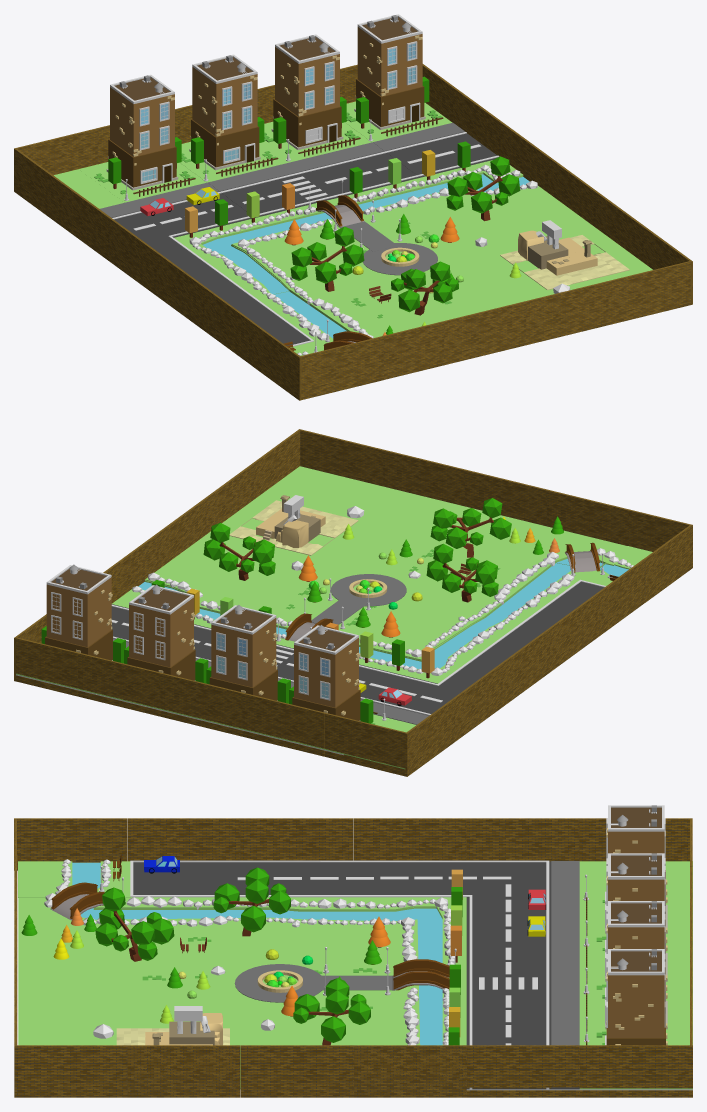
The model's file is city_V2.glb.
3 renders of one model, top to bottom at view 1: azimuth 30°, elevation 25°; view 2: azimuth 150°, elevation 25°; view 3: azimuth 270°, elevation 25°, orthographic. The views are drawn at different scales.
Visible parts, largest first — view 1: Cube.477, Cube.538, Cube.536, Cube.508, Cube.005, Cube.242, Cube.088, Cube.348, Cube.111, Cube.454, Cube.237, Cube.166 (+28 smaller); view 2: Cube.477, Cube.538, Cube.536, Cube.348, Cube.242, Cube.508, Cube.088, Cube.005, Cube.166, Cube.111, Cube.454, Cube.480 (+20 smaller); view 3: Cube.477, Cube.538, Cube.508, Cube.237, Cube.083, Cube.348, Cube.457, Cube, Cube.480, Cube.483, Cube.459, Cube.536 (+32 smaller).
Part boxes in pixels (x1,y1,x2,y2): Cube.477: (14,64,692,400); Cube.538: (174,160,652,348); Cube.536: (500,220,629,290); Cube.508: (203,174,529,338); Cube.005: (110,87,174,156); Cube.242: (275,47,339,116); Cube.088: (192,67,257,136); Cube.348: (357,27,422,96); Cube.111: (290,226,364,291); Cube.454: (446,156,520,221); Cube.237: (302,151,419,197); Cube.166: (391,261,458,315); Cube.477: (14,429,692,776); Cube.538: (112,466,626,683); Cube.536: (229,495,358,555); Cube.348: (46,577,111,647); Cube.242: (129,597,193,667); Cube.508: (138,558,603,669); Cube.088: (211,618,276,687); Cube.005: (294,638,358,707); Cube.166: (430,498,511,557); Cube.111: (426,543,498,602); Cube.454: (203,522,275,580); Cube.480: (109,533,158,603); Cube.477: (14,818,692,1097); Cube.538: (18,897,466,1088); Cube.508: (80,908,442,1045); Cube.237: (466,992,551,1040); Cube.083: (466,944,551,992); Cube.348: (608,975,664,1037); Cube.457: (354,862,467,894); Cube: (466,897,551,944); Cube.480: (354,1045,466,1097); Cube.483: (127,1045,240,1097); Cube.459: (133,862,243,894); Cube.536: (116,1006,229,1045).
Bounding box in the file's own units: 191 × 50.49 × 240.
61 materials, 1 textured.
